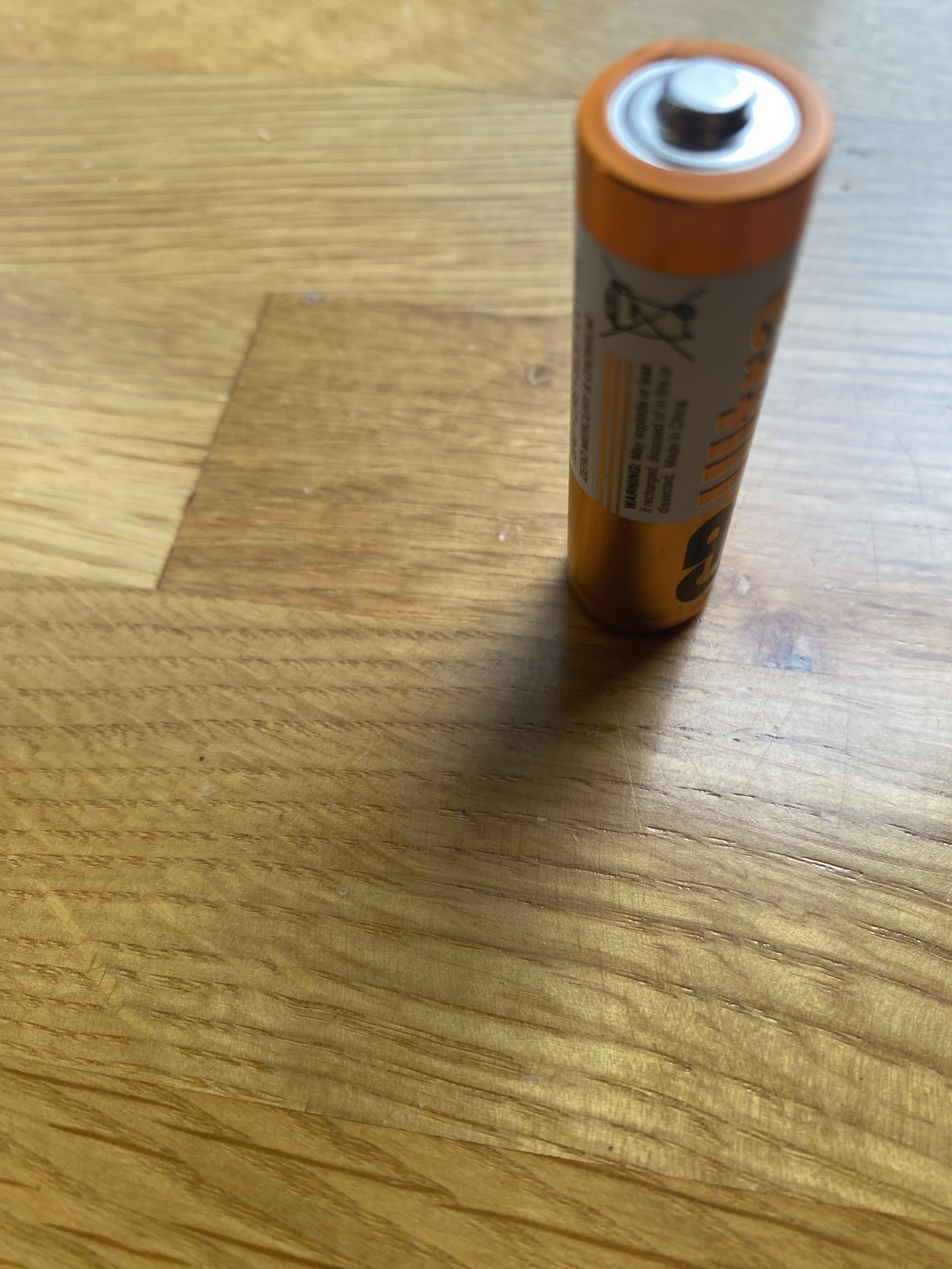AA: (558, 27, 839, 642)
